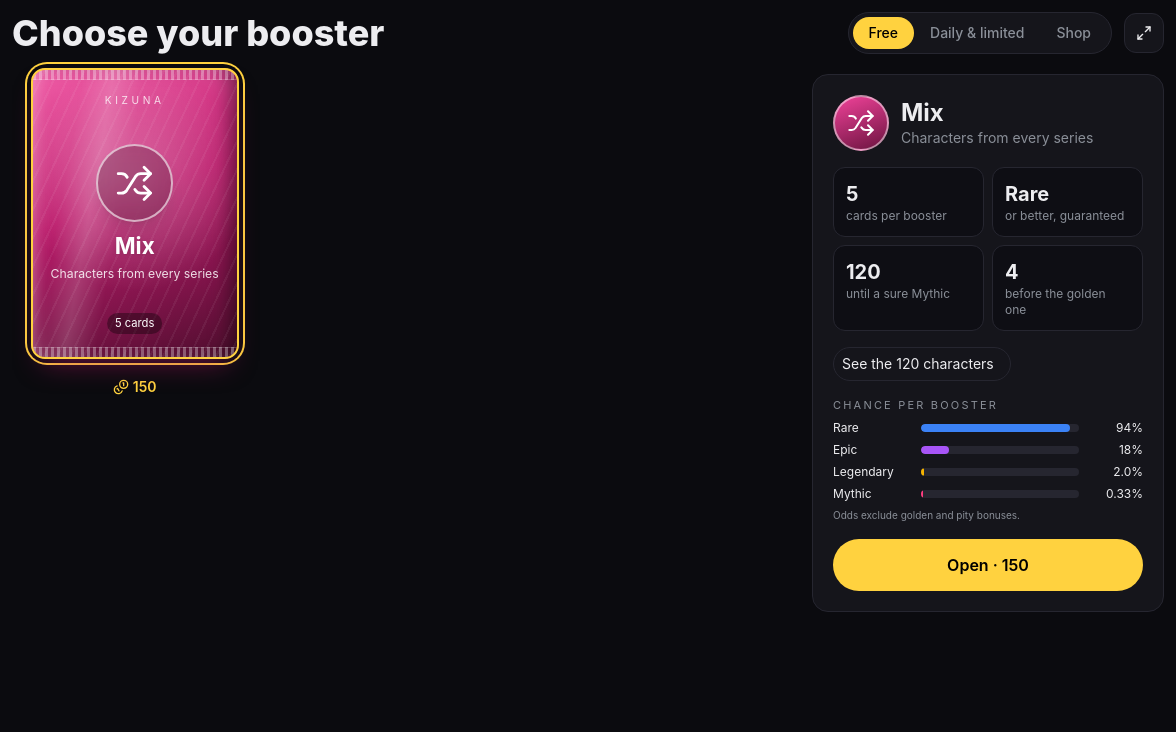
Test: BoosterGrid › lists the Custom booster in the Daily & limited tab with its 175 fallback price
Expected: the button "Custom" is not shown
Click the tab "Daily & limited" at [977, 33], box [914,17,1040,49]
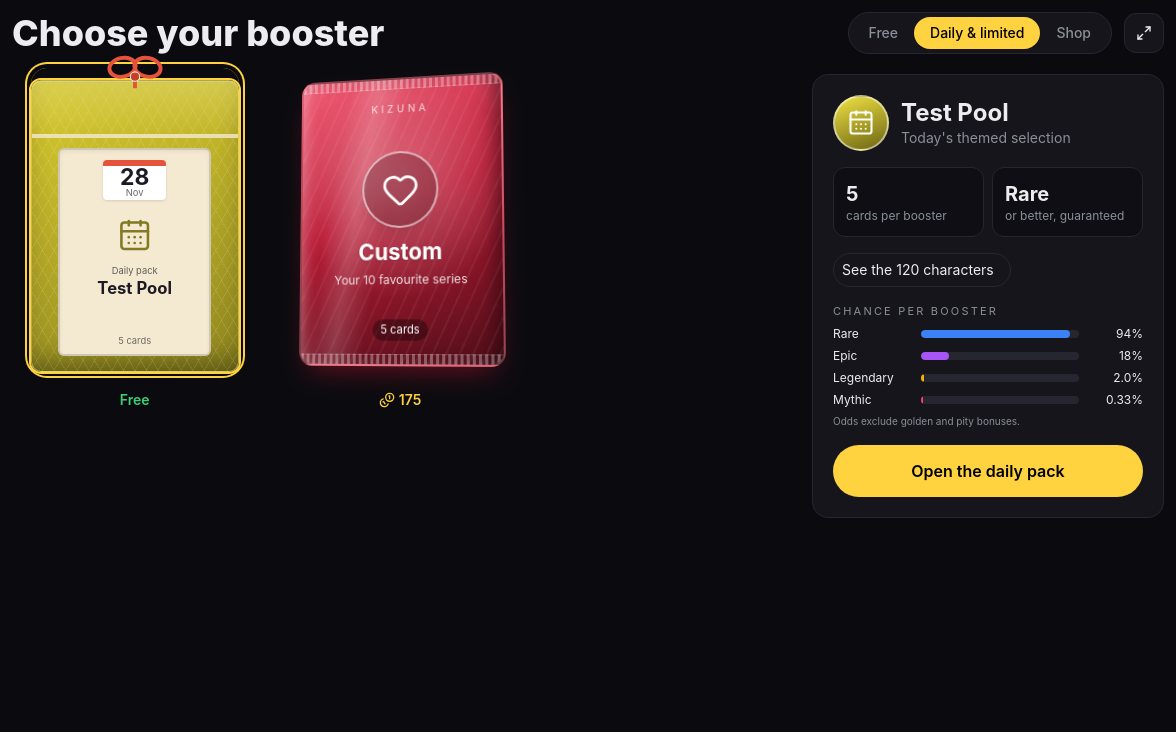
Expected: the text "175" is shown, [399,390,421,410]
